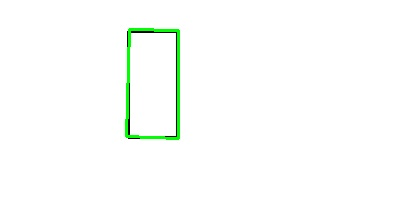line_segment: (126, 29, 179, 139)
